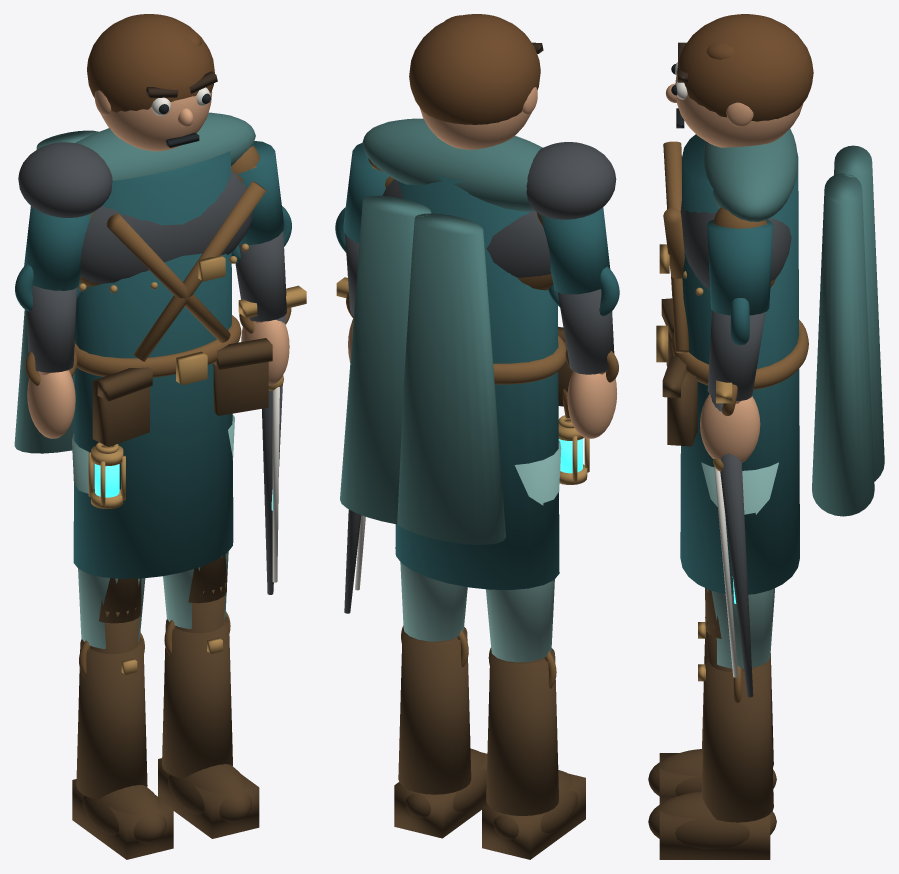
File: 3D模型 char_swordsman.glb
3 renders of one model, left to right at view 1: azimuth 30°, elevation 25°; view 2: azimuth 150°, elevation 25°; view 3: azimuth 270°, elevation 25°, orthographic. The views are drawn at different scales.
Visible parts, largest first — view 1: char_swordsman_tunic, char_swordsman_boot_L, char_swordsman_boot_R, char_swordsman_hair, char_swordsman_chestplate, char_swordsman_pauldron, char_swordsman_mantle, char_swordsman_sleeve_L, char_swordsman_bracer_L, char_swordsman_bracer_R, char_swordsman_head, char_swordsman_strap_R (+27 smaller); view 2: char_swordsman_cape0, char_swordsman_tunic, char_swordsman_cape1, char_swordsman_hair, char_swordsman_boot_R, char_swordsman_boot_L, char_swordsman_mantle, char_swordsman_pant_L, char_swordsman_pauldron, char_swordsman_sleeve_L, char_swordsman_pant_R, char_swordsman_bracer_L (+13 smaller); view 3: char_swordsman_tunic, char_swordsman_cape1, char_swordsman_hair, char_swordsman_boot_R, char_swordsman_mantle, char_swordsman_sleeve_R, char_swordsman_pant_R, char_swordsman_cape0, char_swordsman_blade, char_swordsman_bracer_R, char_swordsman_bootfoot_R, char_swordsman_head (+16 smaller).
Part boxes in pixels (left/top/right/bottom): char_swordsman_tunic: left=73, top=151, right=233, bottom=578; char_swordsman_boot_L: left=76, top=637, right=147, bottom=799; char_swordsman_boot_R: left=162, top=616, right=232, bottom=778; char_swordsman_hair: left=87, top=14, right=214, bottom=112; char_swordsman_chestplate: left=80, top=169, right=252, bottom=283; char_swordsman_pauldron: left=18, top=142, right=112, bottom=217; char_swordsman_mantle: left=75, top=112, right=255, bottom=180; char_swordsman_sleeve_L: left=24, top=206, right=91, bottom=290; char_swordsman_bracer_L: left=26, top=285, right=77, bottom=372; char_swordsman_bracer_R: left=235, top=231, right=286, bottom=321; char_swordsman_head: left=100, top=91, right=212, bottom=151; char_swordsman_strap_R: left=133, top=181, right=266, bottom=361; char_swordsman_cape0: left=397, top=213, right=505, bottom=544; char_swordsman_tunic: left=395, top=174, right=559, bottom=589; char_swordsman_cape1: left=340, top=195, right=431, bottom=524; char_swordsman_hair: left=409, top=14, right=540, bottom=124; char_swordsman_boot_R: left=398, top=627, right=471, bottom=794; char_swordsman_boot_L: left=486, top=648, right=558, bottom=815; char_swordsman_mantle: left=362, top=118, right=542, bottom=211; char_swordsman_pant_L: left=486, top=440, right=561, bottom=662; char_swordsman_pauldron: left=526, top=142, right=616, bottom=219; char_swordsman_sleeve_L: left=540, top=207, right=610, bottom=294; char_swordsman_pant_R: left=400, top=562, right=467, bottom=641; char_swordsman_bracer_L: left=557, top=289, right=614, bottom=374; char_swordsman_tunic: left=680, top=134, right=799, bottom=594; char_swordsman_cape1: left=812, top=173, right=874, bottom=516; char_swordsman_hair: left=677, top=14, right=813, bottom=121; char_swordsman_boot_R: left=702, top=656, right=773, bottom=822; char_swordsman_mantle: left=703, top=128, right=797, bottom=221; char_swordsman_sleeve_R: left=707, top=219, right=773, bottom=315; char_swordsman_pant_R: left=701, top=462, right=778, bottom=668; char_swordsman_cape0: left=834, top=145, right=884, bottom=481; char_swordsman_blade: left=711, top=392, right=753, bottom=697; char_swordsman_bracer_R: left=707, top=310, right=765, bottom=400; char_swordsman_bootfoot_R: left=648, top=791, right=776, bottom=849; char_swordsman_head: left=675, top=75, right=803, bottom=147.
Size of the model in its own units: 0.651 by 1.77 by 0.4705.
